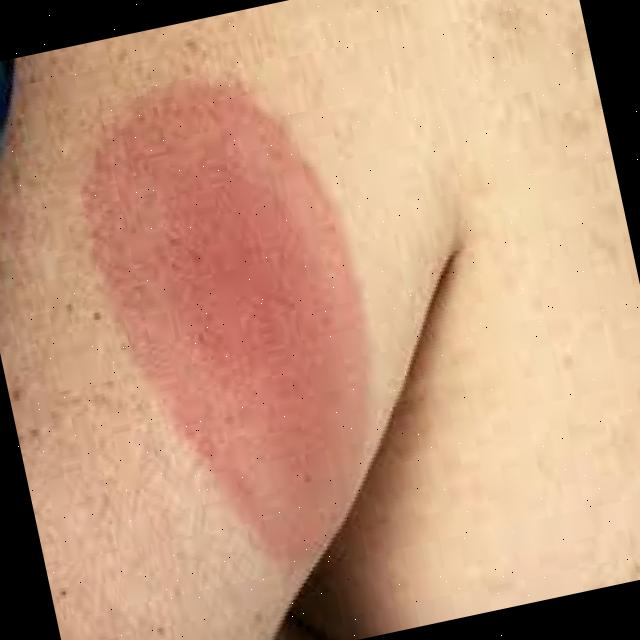kene: (70, 56, 389, 458)
